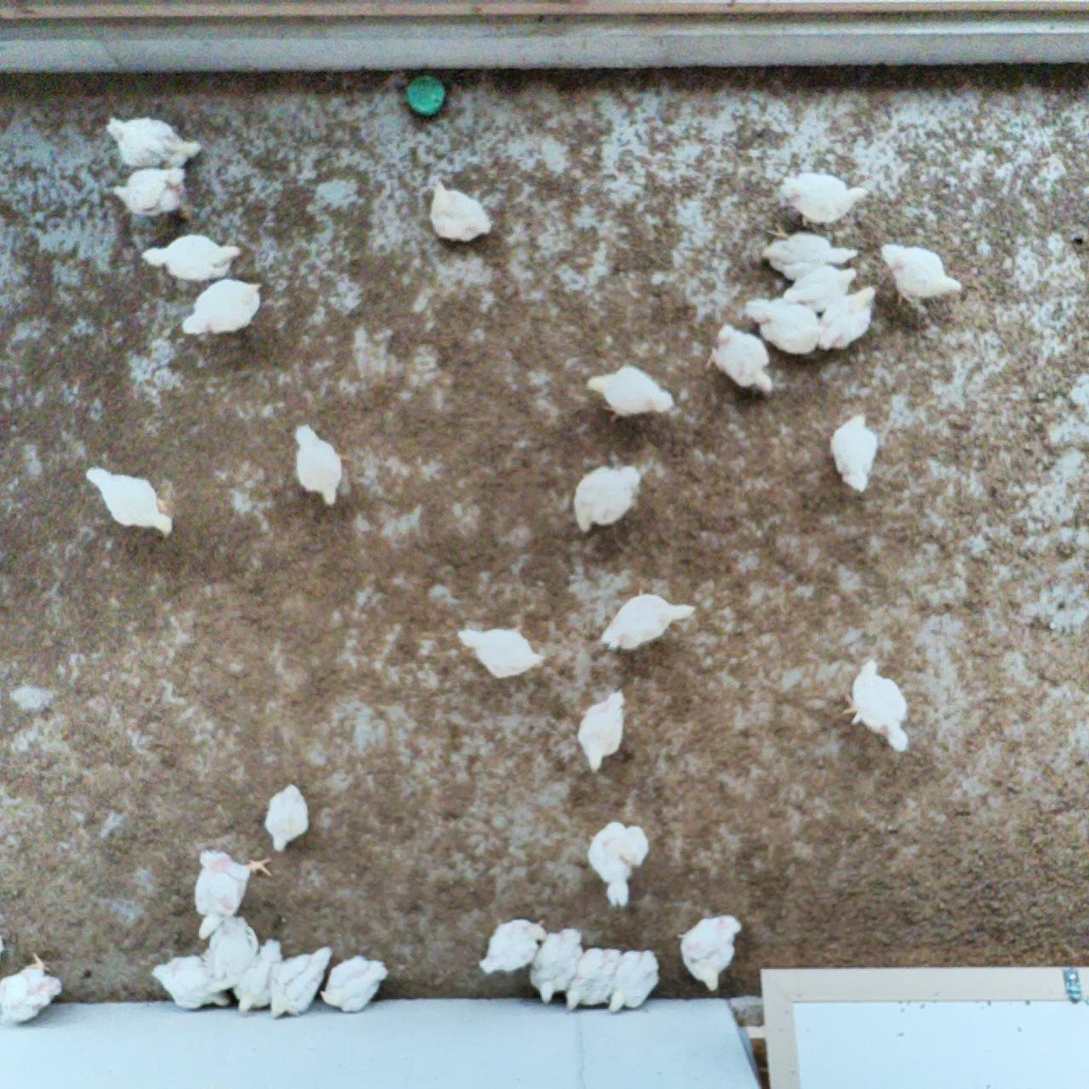chicken: (195, 846, 274, 943), (843, 657, 913, 756), (880, 239, 967, 312), (766, 219, 865, 282), (87, 466, 174, 537), (599, 592, 698, 654), (103, 112, 202, 172), (586, 820, 650, 912), (143, 229, 242, 288), (266, 944, 337, 1021), (677, 911, 741, 996), (572, 463, 645, 537), (455, 624, 545, 684), (585, 364, 675, 424), (184, 277, 268, 339), (198, 914, 262, 995), (704, 324, 776, 395), (150, 952, 235, 1012), (743, 293, 820, 359), (575, 688, 634, 774), (0, 950, 62, 1029), (531, 926, 592, 1006), (479, 915, 552, 980), (115, 163, 189, 226), (827, 411, 883, 494), (318, 955, 391, 1018), (290, 422, 344, 507), (233, 939, 290, 1016), (815, 284, 877, 354), (428, 178, 494, 243), (602, 947, 664, 1014), (564, 944, 624, 1013), (261, 781, 313, 855), (784, 263, 859, 313)
